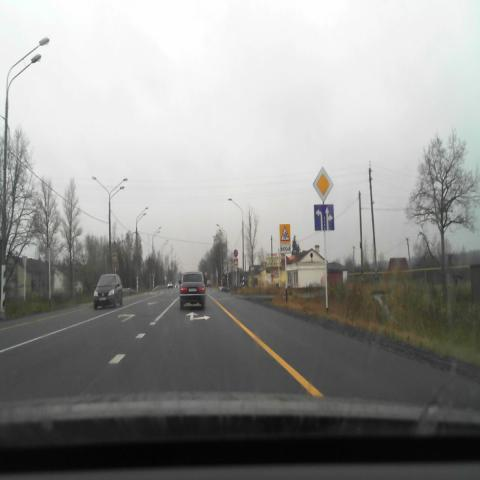5_15_2_2: (314, 204, 334, 232)
